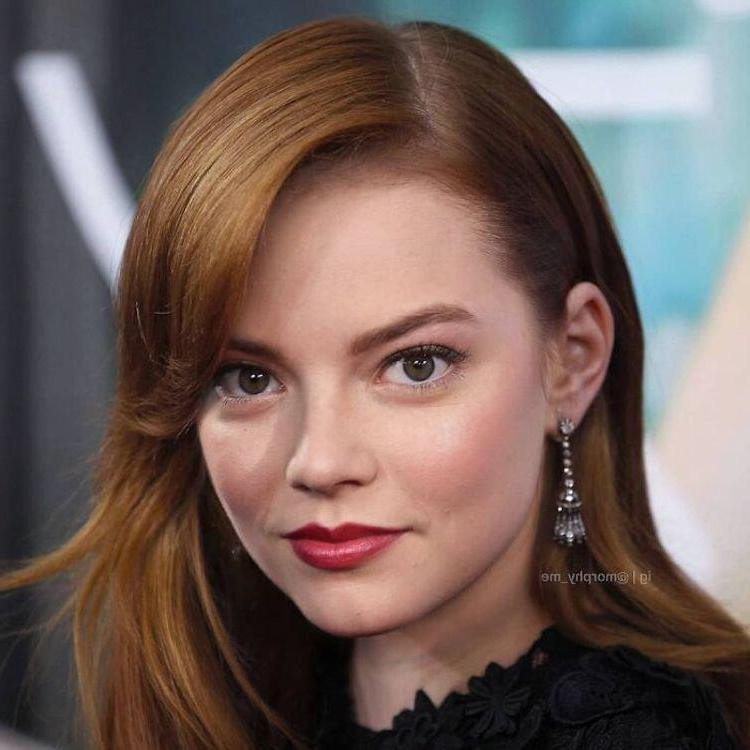Sober: (184, 182, 535, 627)
